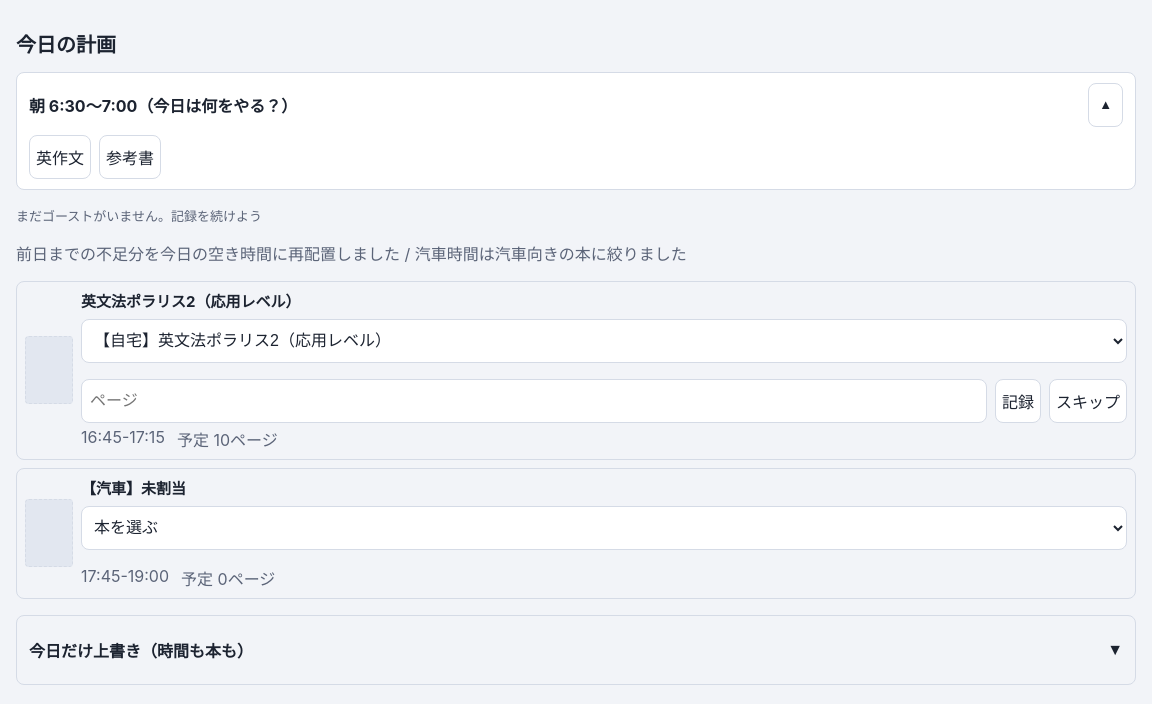
Test: TodayPlanScreen › 割当が付かない設定時間も未割当枠として表示し本を選べる
The width and height of the screenshot is (1152, 704).
Expected: the element with test id "today-table" is shown, 16,281 -> 1136,599
Expected: the element with test id "plan-row-\\d+" shows "17:45-19:00", 16,468 -> 1136,599
Select "【反復】改訂版 必携 英単語 LEAP" in the dropdown named "この時間にする本を選び直す" below "【汽車】" at (604, 528), box 81,506 -> 1127,550
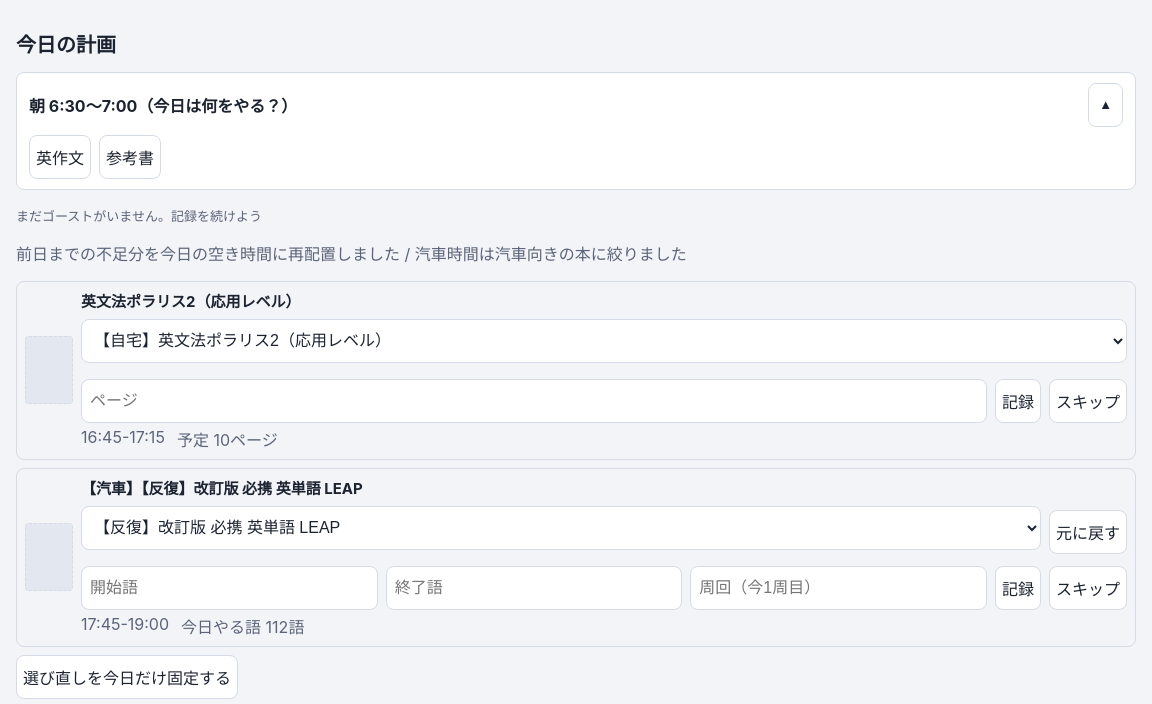
Result: the text "未割当" is gone
Result: the element with test id "today-table" shows "反復" at 141,479 -> 194,498
